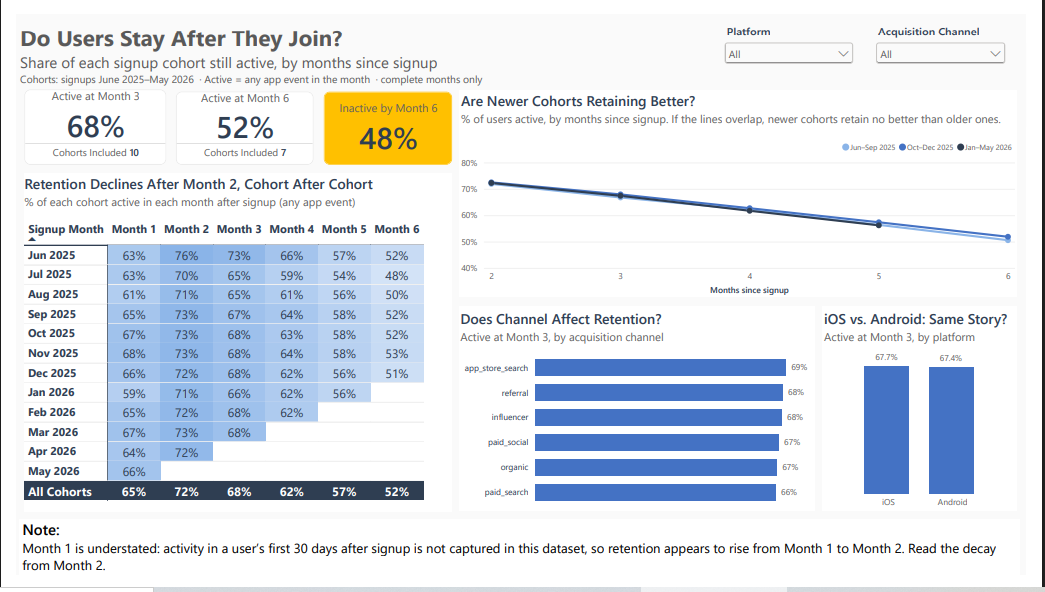

The page's visual inventory and layout, read from the dashboard file:
{"tool":"powerbi","page":{"name":"Cohort Retention","canvas":[1440,800],"ordinal":1},"visuals":[{"type":"textbox","box":[0,11.3,1433.9,100],"z":0},{"type":"slicer","fields":{"Values":["fact_cohort_retention.platform"]},"box":[1004.9,13.1,193.3,65],"z":1000},{"type":"slicer","fields":{"Values":["fact_cohort_retention.signup_channel"]},"box":[1221.3,13.1,193.3,65],"z":2000},{"type":"cardVisual","fields":{"Data":["_measures.M3 Retention"]},"box":[11.5,108.2,201.6,106.6],"z":3000},{"type":"cardVisual","fields":{"Data":["_measures.M6 Retention"]},"box":[227.4,111.3,195.2,103.2],"z":4000},{"type":"cardVisual","fields":{"Data":["_measures.Inactive by Month 6"]},"box":[437.7,111.5,183.6,103.3],"z":5000},{"type":"pivotTable","title":"Retention Declines After Month 2, Cohort After Cohort","fields":{"Columns":["fact_cohort_retention.Month Label"],"Rows":["fact_cohort_retention.cohort_month"],"Values":["_measures.Retention %"]},"box":[11.5,227.9,609.8,482],"z":6000},{"type":"textbox","title":"Note:","box":[3.1,719.7,1426.8,80.3],"z":7000},{"type":"lineChart","title":"Are Newer Cohorts Retaining Better?","fields":{"Category":["fact_cohort_retention.month_offset"],"Series":["fact_cohort_retention.Cohort Group"],"Y":["_measures.Retention %"]},"box":[631.5,108.7,795.3,294.5],"z":8000},{"type":"clusteredBarChart","title":"Does Channel Affect Retention?","fields":{"Category":["fact_cohort_retention.signup_channel"],"Y":["_measures.M3 Retention"]},"box":[631.5,417.3,506.5,291.9],"z":9000},{"type":"clusteredColumnChart","title":"iOS vs. Android: Same Story?","fields":{"Category":["fact_cohort_retention.platform"],"Y":["_measures.M3 Retention"]},"box":[1149.6,417.3,277.2,291.3],"z":10000}]}

Visuals, with their boxes in screenshot pixels (x1, y1, x2, y2), scaled from the page's 1440x800 canvas onto the 1045x592 screenshot:
textbox: bbox=(0, 8, 1041, 82)
slicer - fact_cohort_retention.platform: bbox=(729, 10, 870, 58)
slicer - fact_cohort_retention.signup_channel: bbox=(886, 10, 1027, 58)
cardVisual - _measures.M3 Retention: bbox=(8, 80, 155, 159)
cardVisual - _measures.M6 Retention: bbox=(165, 82, 307, 159)
cardVisual - _measures.Inactive by Month 6: bbox=(318, 83, 451, 159)
"Retention Declines After Month 2, Cohort After Cohort" pivotTable: bbox=(8, 169, 451, 525)
"Note:" textbox: bbox=(2, 533, 1038, 591)
"Are Newer Cohorts Retaining Better?" lineChart: bbox=(458, 80, 1035, 298)
"Does Channel Affect Retention?" clusteredBarChart: bbox=(458, 309, 826, 525)
"iOS vs. Android: Same Story?" clusteredColumnChart: bbox=(834, 309, 1035, 524)
